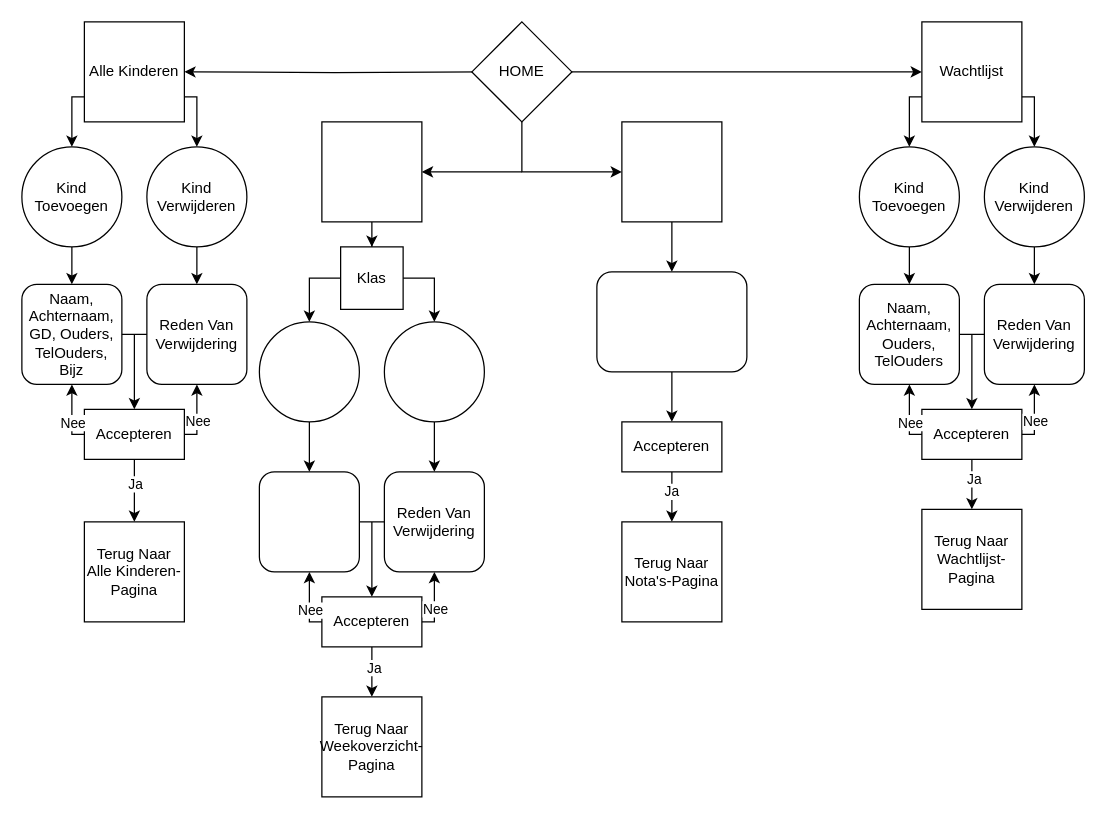
This 1106x819 diagram has some shape labels left out. The shapes that lost their labels are listed below. From the top down, each one's box as (x1, y1, x2, y2) in pixels, then its label:
(321, 121, 422, 222): Weekoverzicht
(621, 121, 722, 222): Nota's
(596, 271, 747, 372): Maak Nota(PDF)
(258, 321, 359, 422): Kind Aan Dag Toevoegen
(383, 321, 484, 422): Kind Verwijderen Van Datum
(258, 471, 359, 572): Welke Dag, Tijd, Naam, Ouders, Tel. nummer
